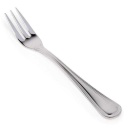fork: (6, 4, 127, 127)
